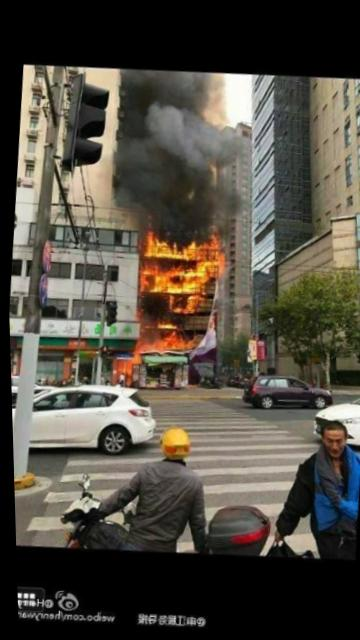fire: (136, 333, 187, 357), (190, 237, 225, 262), (145, 235, 175, 259), (143, 262, 186, 277), (197, 259, 224, 282), (183, 270, 204, 294), (149, 272, 173, 293), (185, 294, 201, 314), (173, 245, 190, 260), (166, 285, 186, 297), (155, 322, 176, 331)
